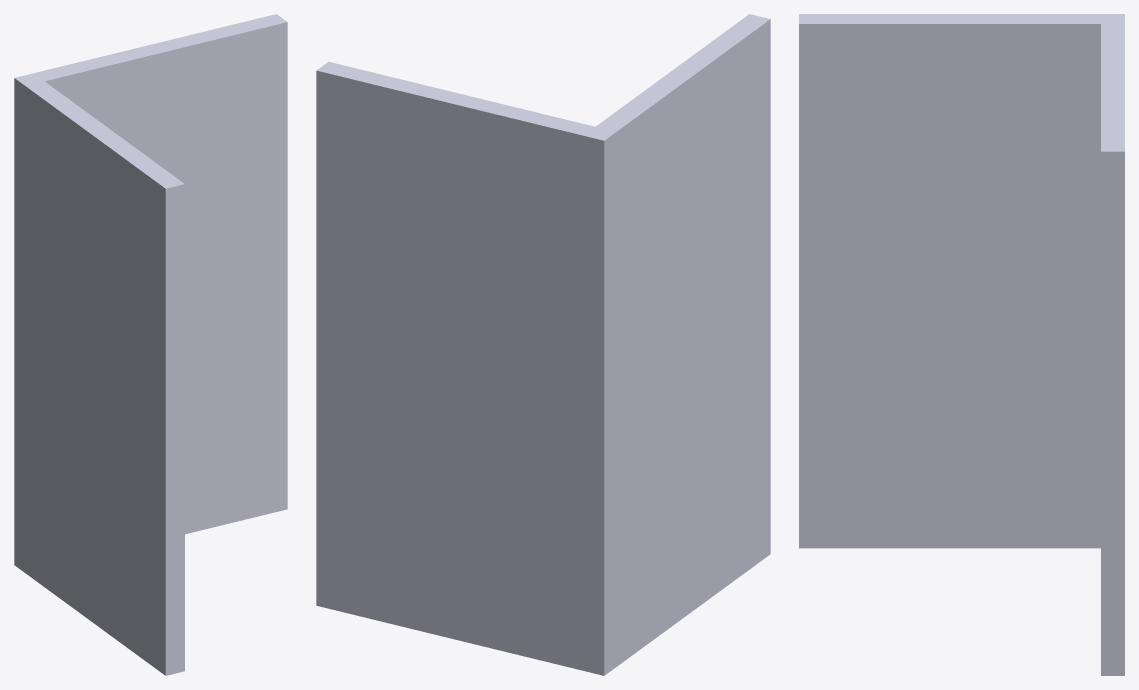
File: obj_wall_corner_inner.FBX
3 views of the same model, side by side, from view 1: azimuth 30°, elevation 25°; view 2: azimuth 150°, elevation 25°; view 3: azimuth 270°, elevation 25° (orthographic). The views are drawn at different scales.
Parts seen in each view (by area): view 1: obj_wall_corner_inner; view 2: obj_wall_corner_inner; view 3: obj_wall_corner_inner.
Boxes of the visible parts, x1,y1,x2,y2 form: obj_wall_corner_inner: [14, 14, 287, 675]; obj_wall_corner_inner: [316, 14, 770, 675]; obj_wall_corner_inner: [799, 14, 1124, 675].
Size of the model in its own units: 1.08 by 1.92 by 1.08.
